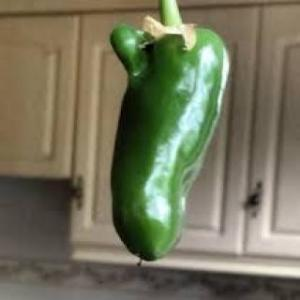bell_pepper: (101, 20, 230, 264)
